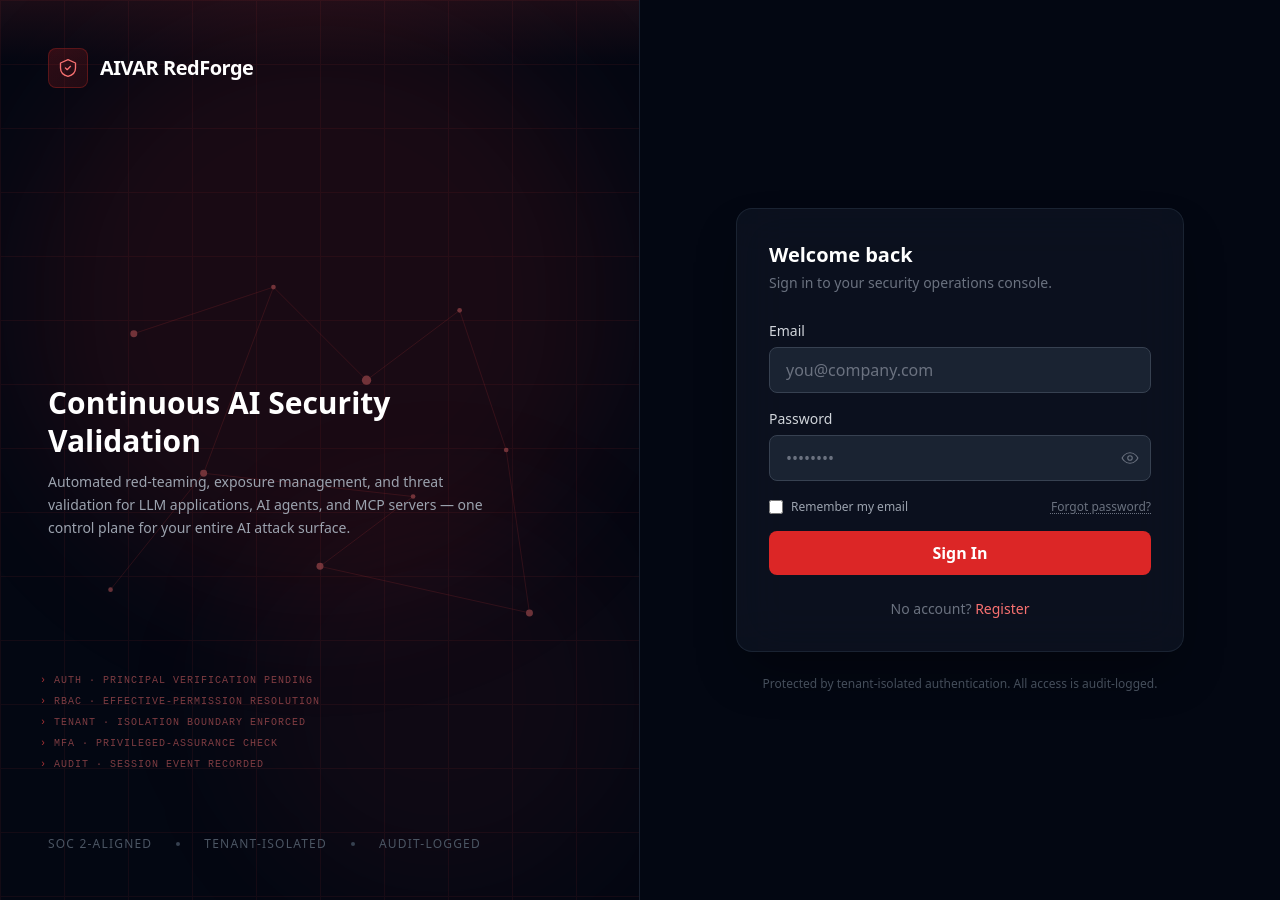
Test: LoginPage › a non-ApiError failure (e.g. a network/CSP-blocked fetch) still exits the submitting state with a generic message, never a permanent loading state
Step 1. Type "user@example.test" into the field with placeholder "you@company.com" → (960, 370), box [769, 347, 1151, 393]
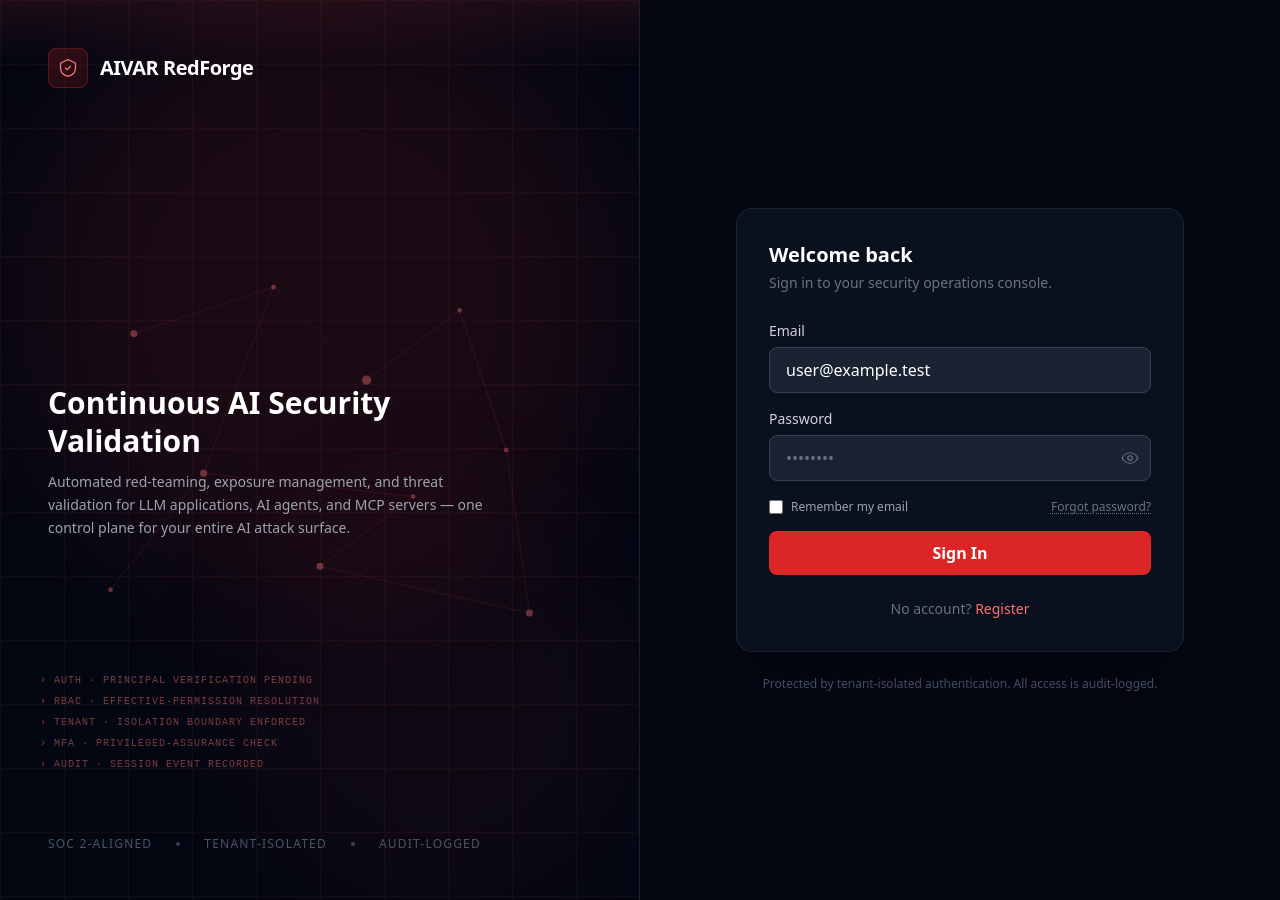
Step 2. Type "any-password" into the password field with placeholder "••••••••" → (960, 458), box [769, 435, 1151, 481]
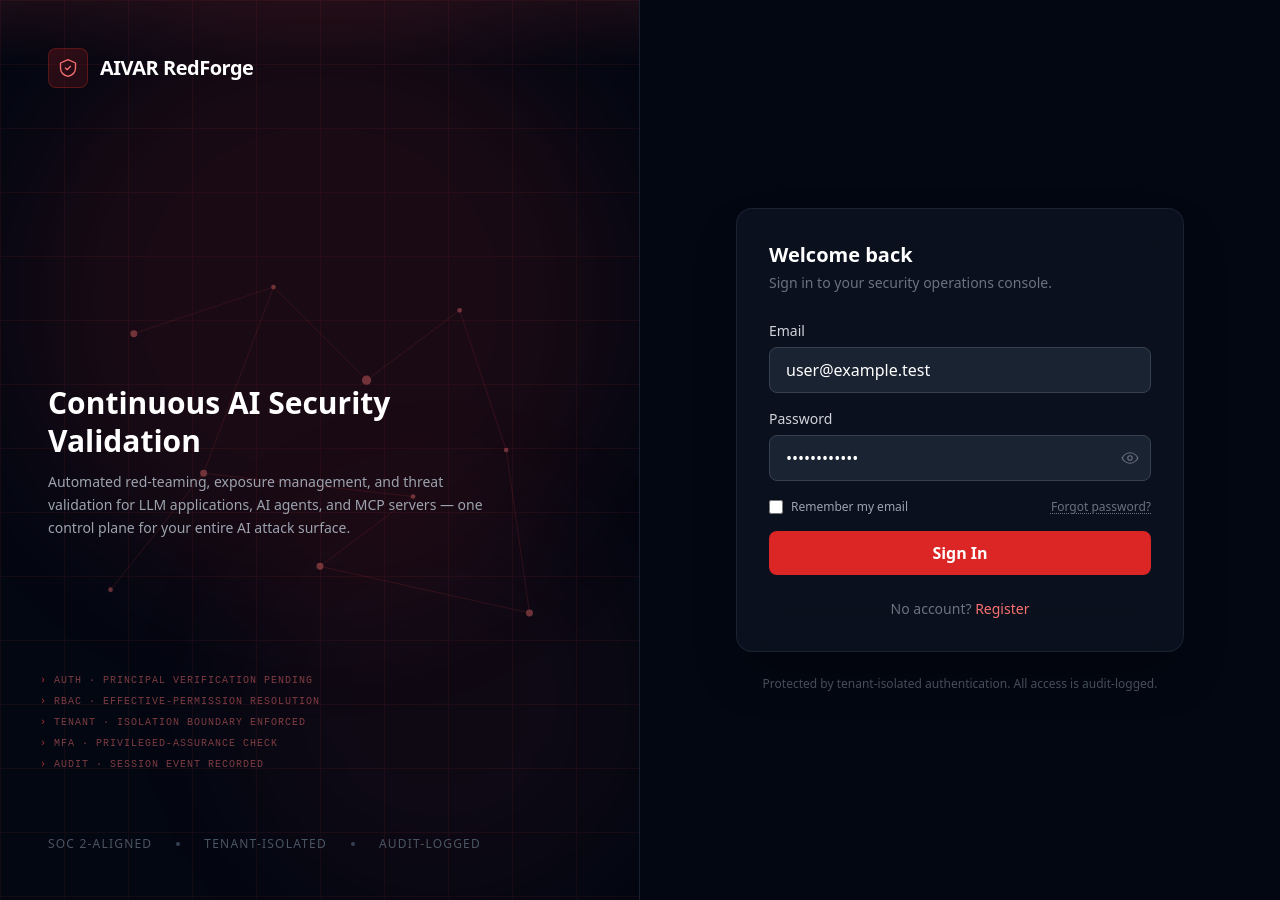
Step 3. Click the button "Sign In" → (960, 553), box [769, 531, 1151, 575]
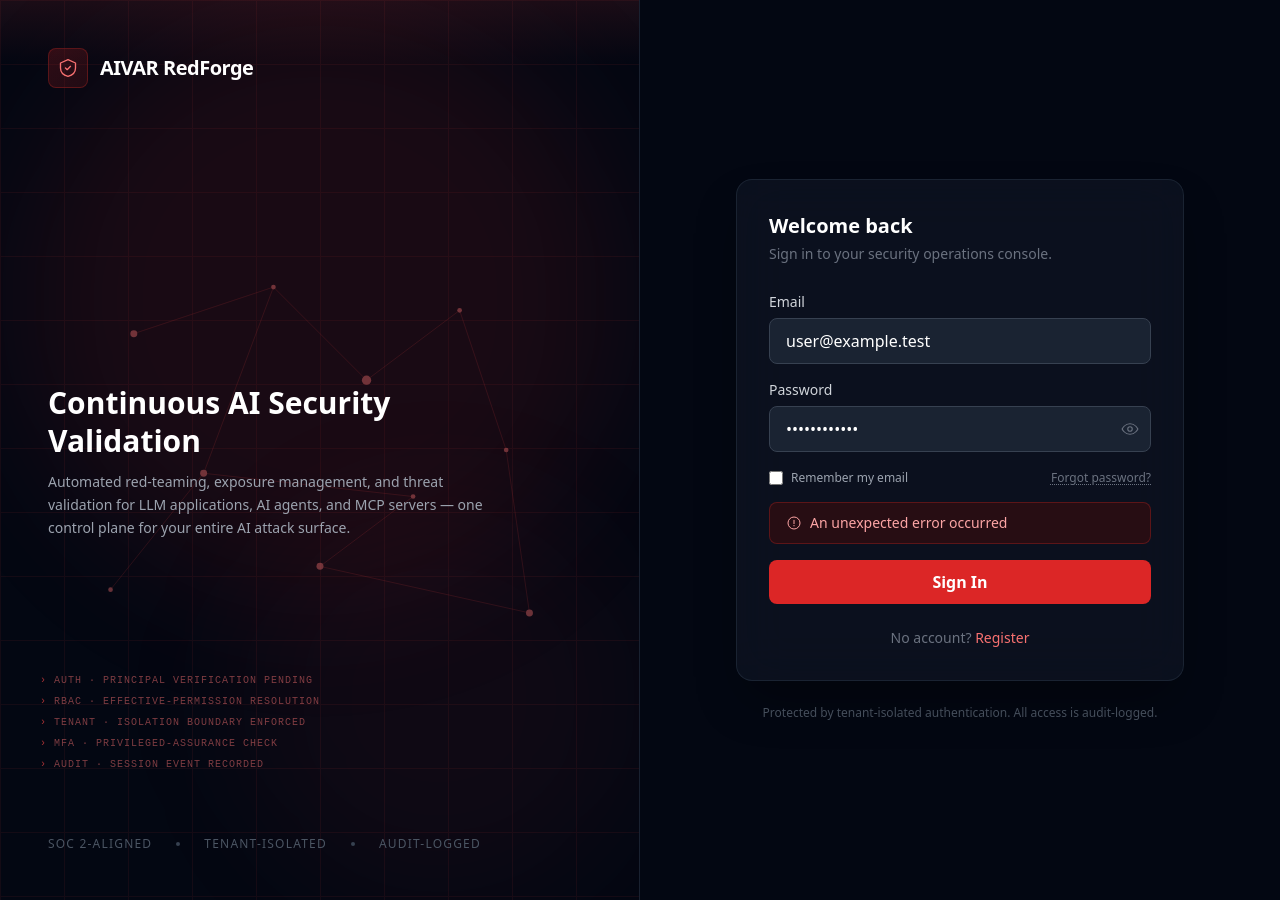
Expected: the button "Sign In" is enabled, [769, 560, 1151, 604]
Expected: the text "An unexpected error occurred" is shown, [810, 513, 1007, 533]
